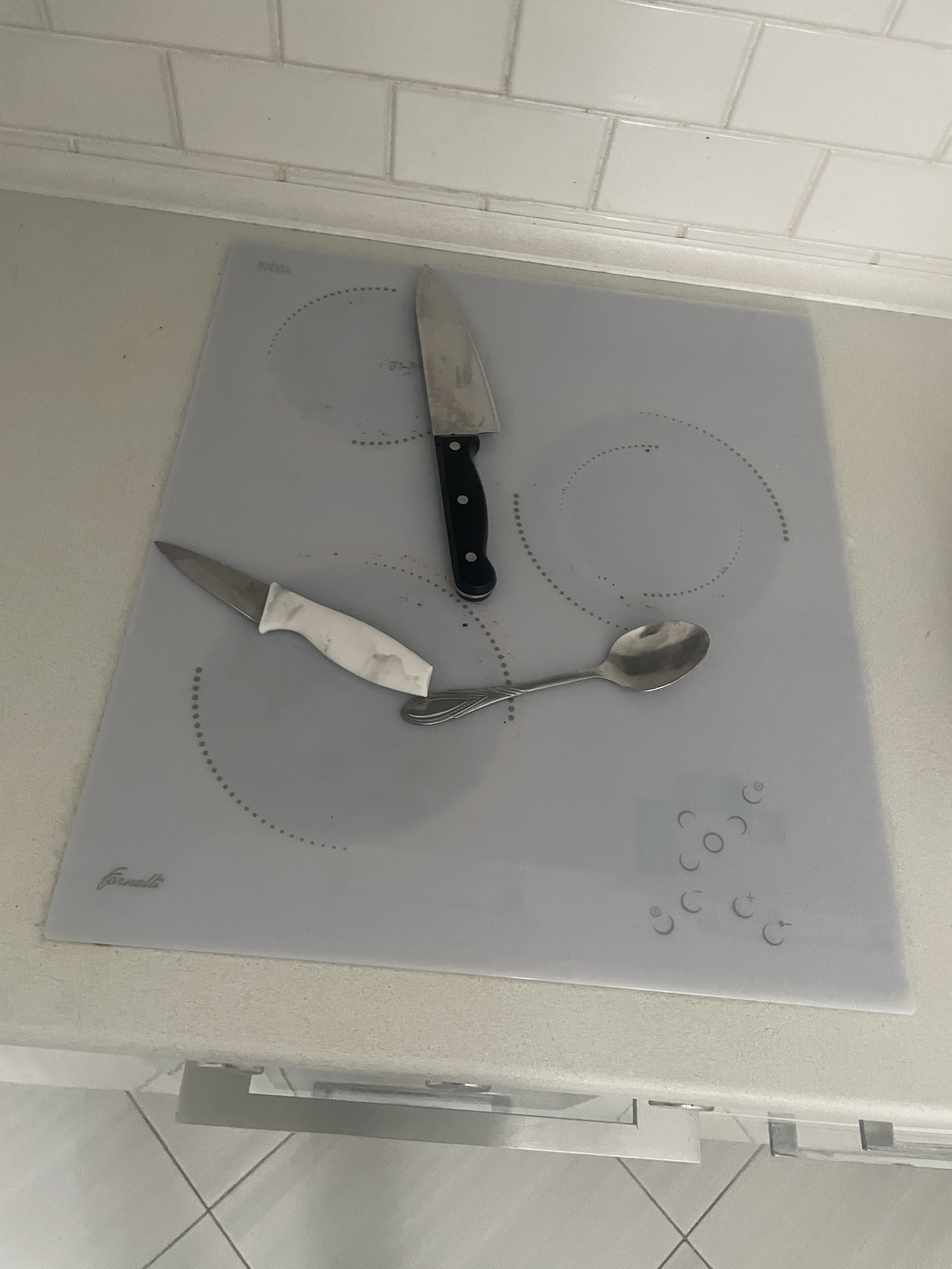knife: (155, 541, 432, 696), (416, 267, 499, 600)
spoon: (401, 621, 710, 725)
